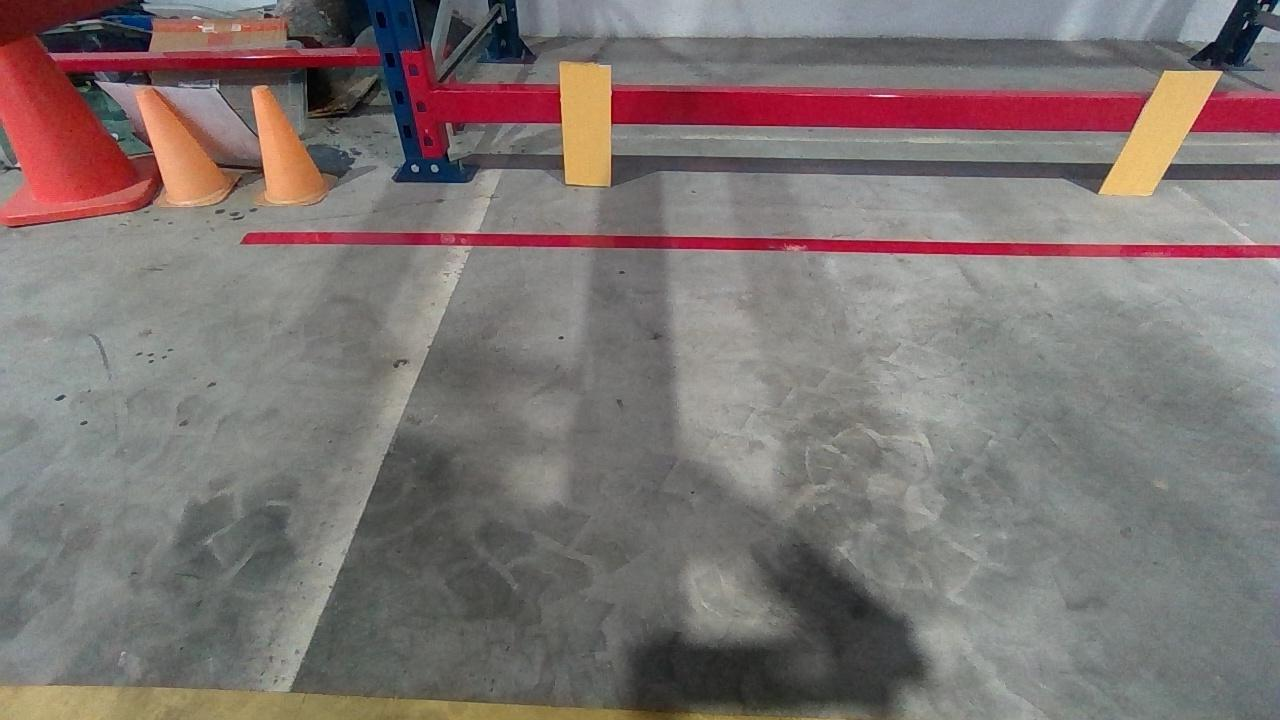h_rack: (453, 88, 1276, 133)
orange_strip: (1096, 66, 1218, 196), (557, 62, 612, 185)
red_line: (240, 227, 1278, 258)
